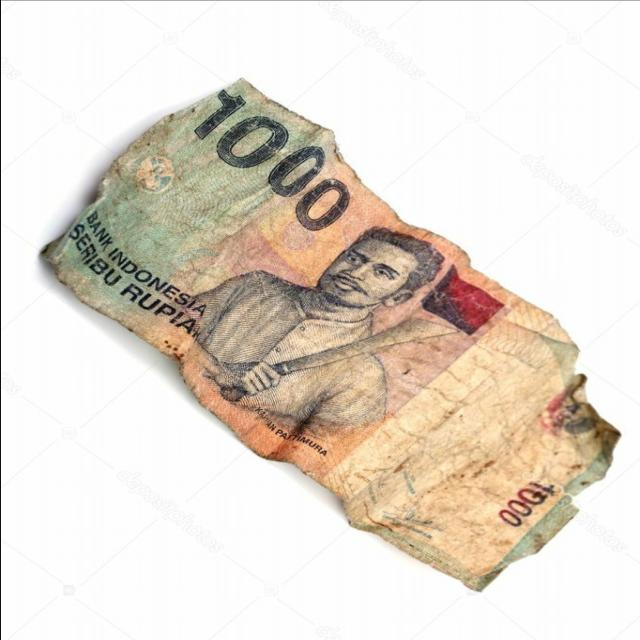1000IndonesianRupiah: (35, 82, 602, 546)
